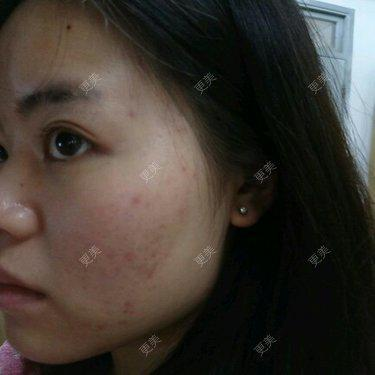fore: (116, 314, 138, 329), (123, 100, 137, 122), (174, 201, 190, 220), (142, 264, 163, 278), (117, 247, 135, 263), (122, 295, 141, 310), (127, 192, 143, 209)
